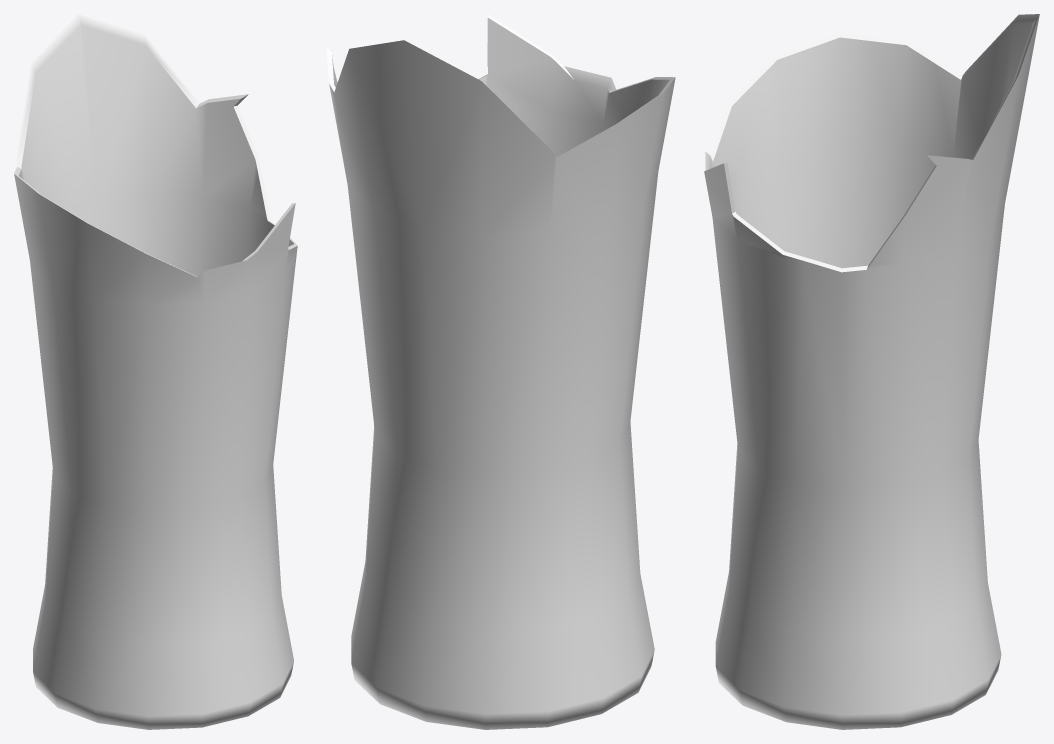
Rendered from beerGlassBroken.fbx.
The picture shows the model from 3 angles, left to right: view 1: azimuth 30°, elevation 25°; view 2: azimuth 150°, elevation 25°; view 3: azimuth 270°, elevation 25°; orthographic projection. The views are drawn at different scales.
Visible parts, largest first — view 1: beerGlassBroken; view 2: beerGlassBroken; view 3: beerGlassBroken.
Boxes of the visible parts, left/top/right/bottom form: beerGlassBroken: left=14, top=14, right=297, bottom=729; beerGlassBroken: left=326, top=14, right=675, bottom=729; beerGlassBroken: left=704, top=14, right=1039, bottom=729.
Size of the model in its own units: 0.0924 by 0.215 by 0.0983.
